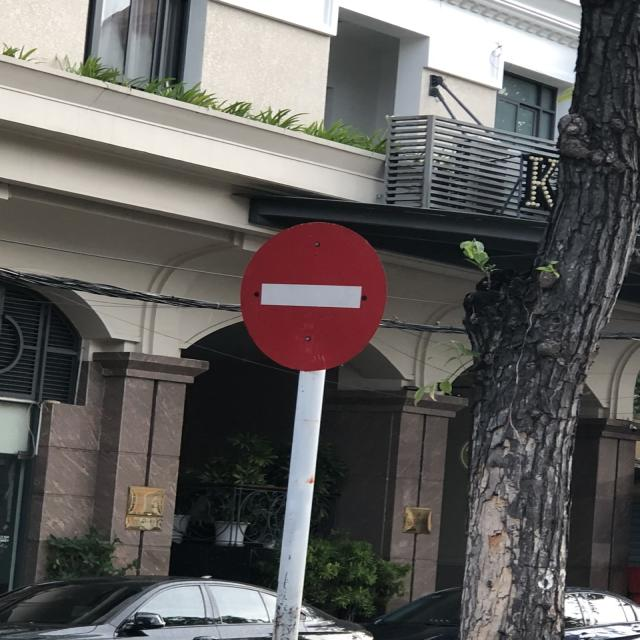Bien bao cam di nguoc chieu: (225, 217, 410, 379)
